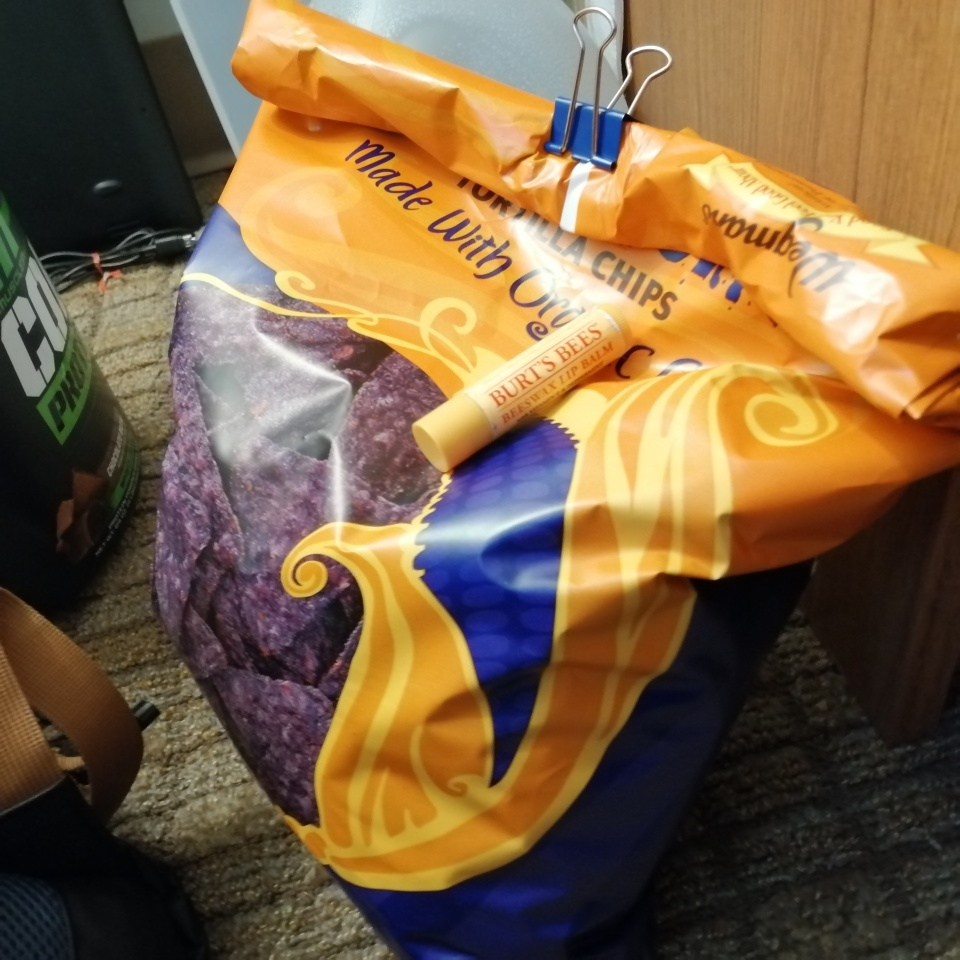chapstick: (412, 303, 634, 472)
